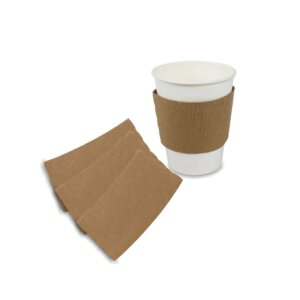PaperCup: (149, 60, 238, 178)
